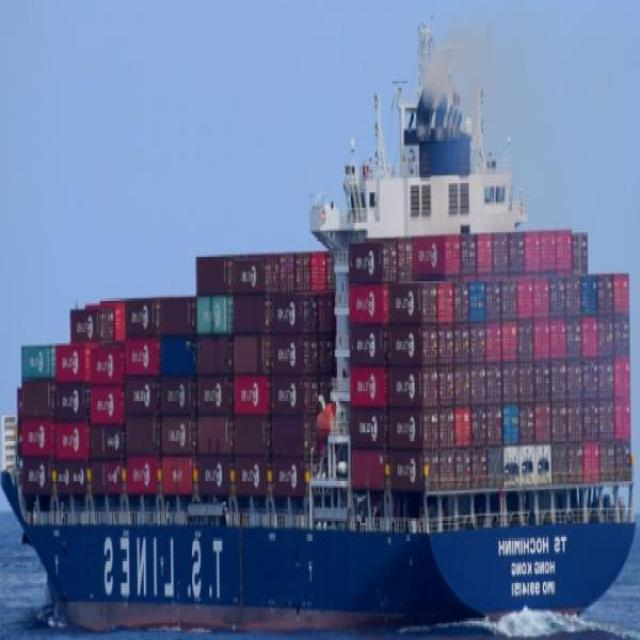Container Ship: (5, 14, 638, 636)
